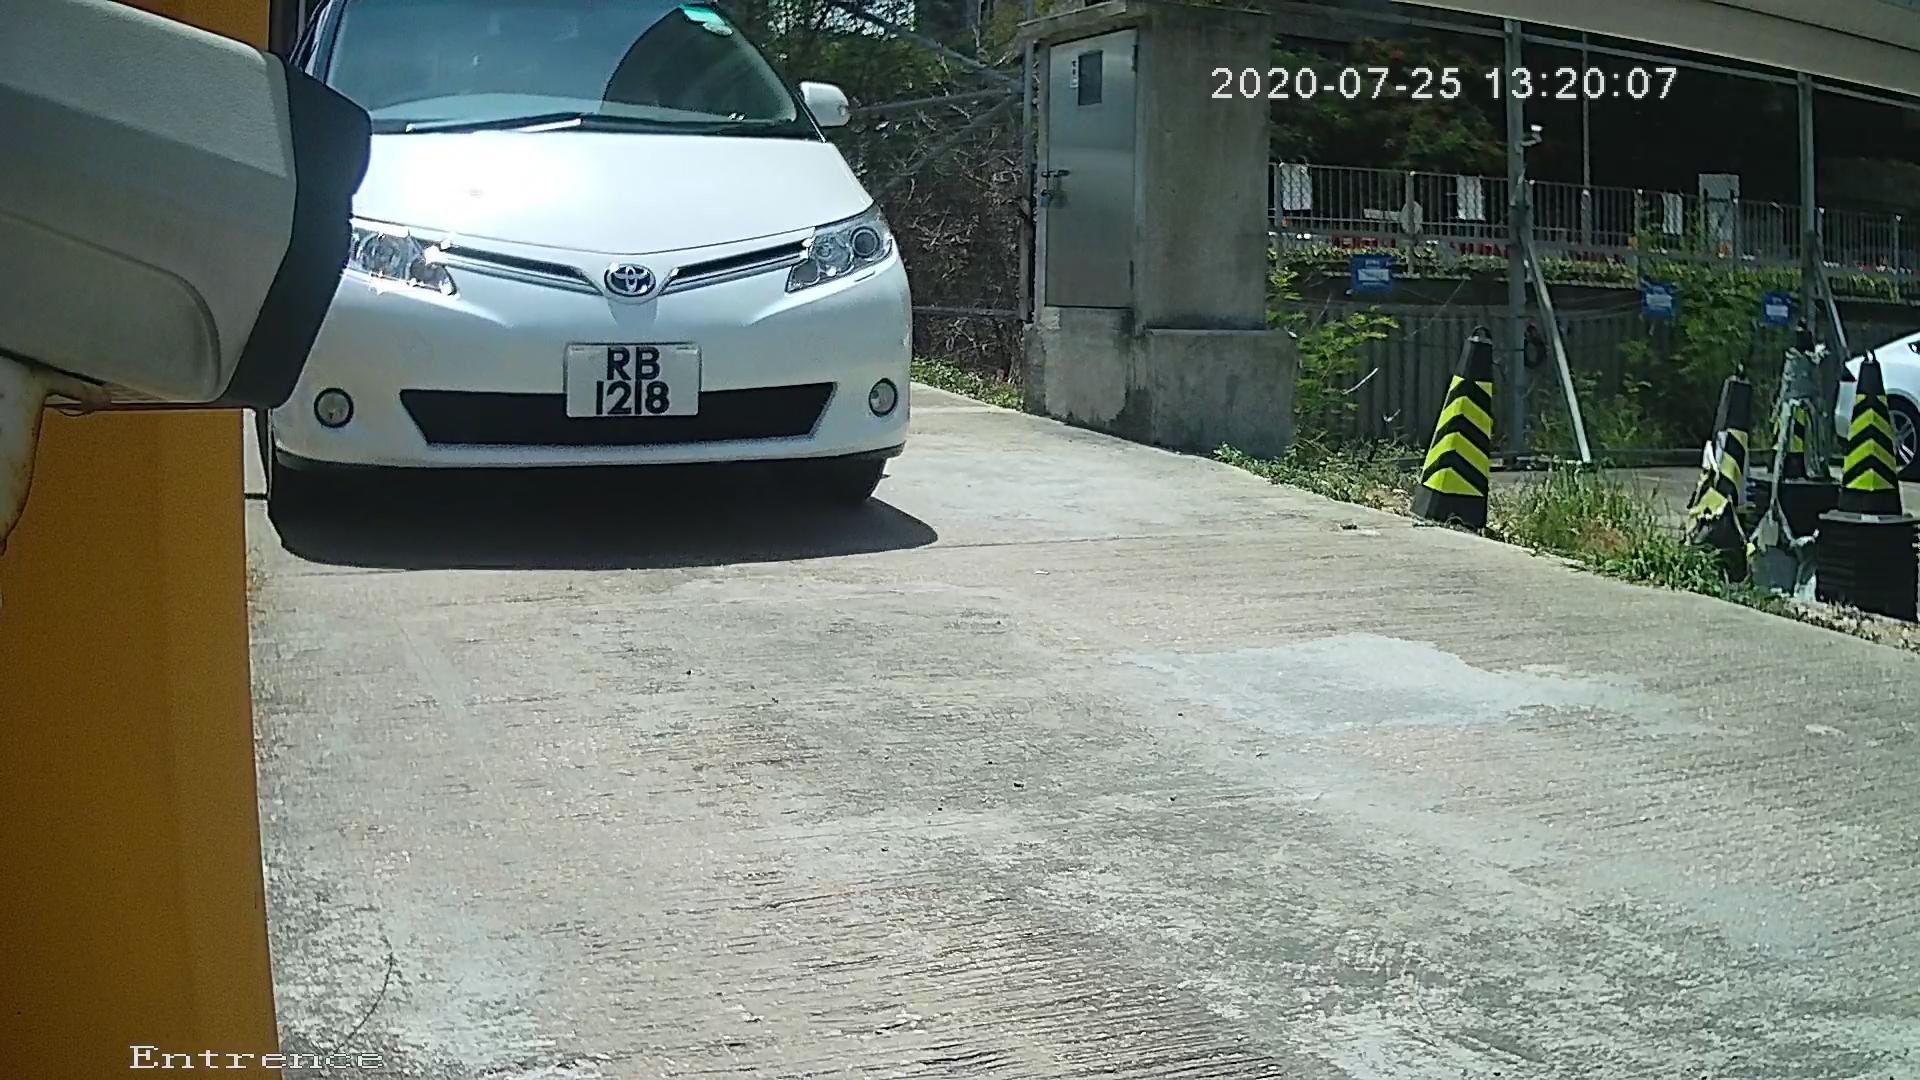Car: (172, 10, 961, 526)
License Plate: (558, 309, 729, 439)
